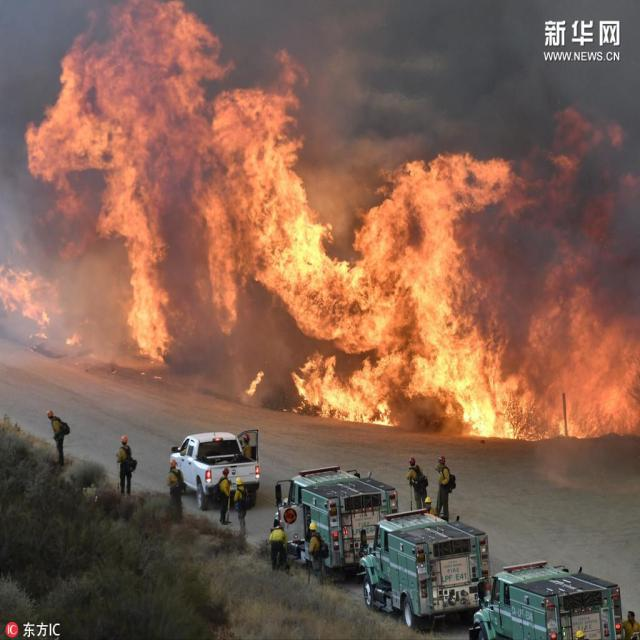fire: (20, 17, 338, 383), (332, 159, 628, 434)
